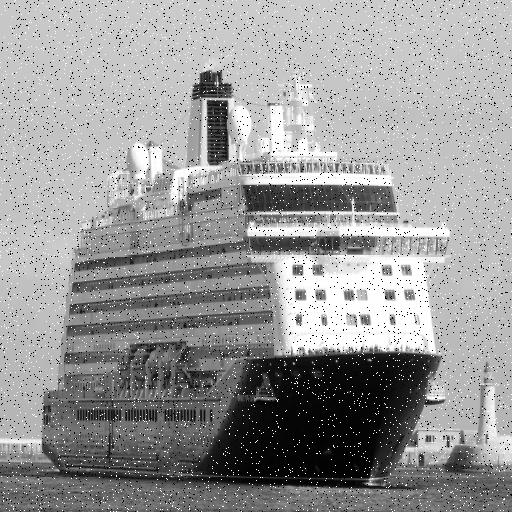cruises: (36, 57, 454, 491)
